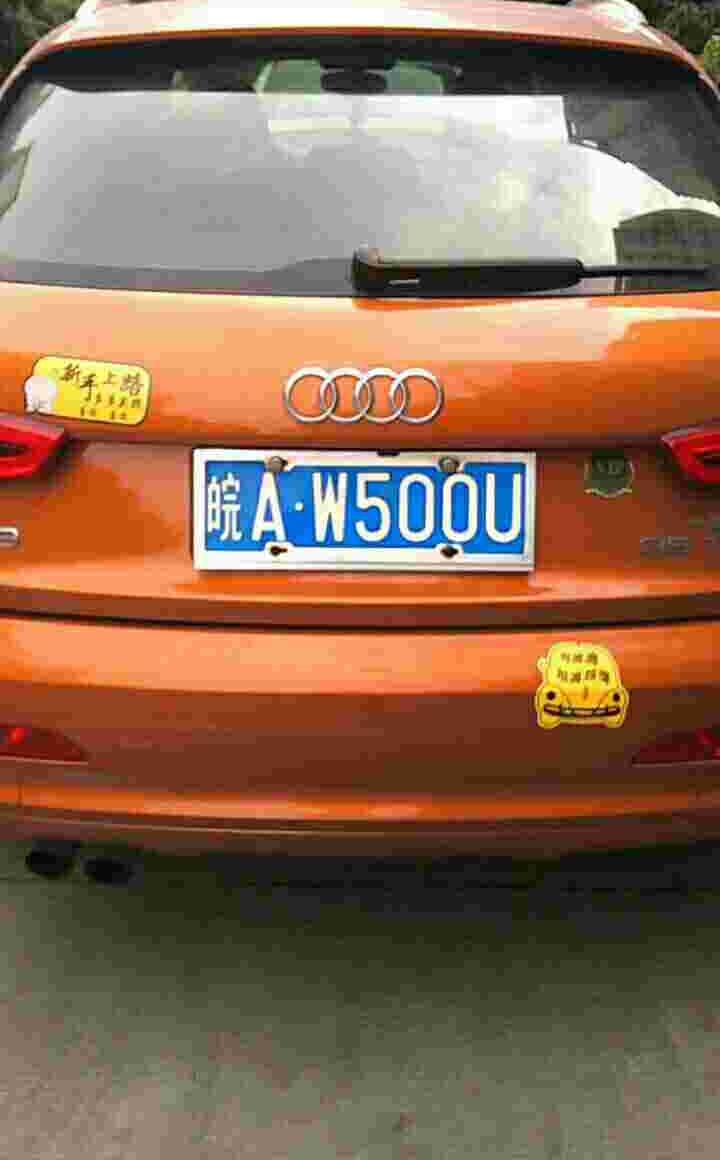license_plate: (198, 454, 532, 563)
